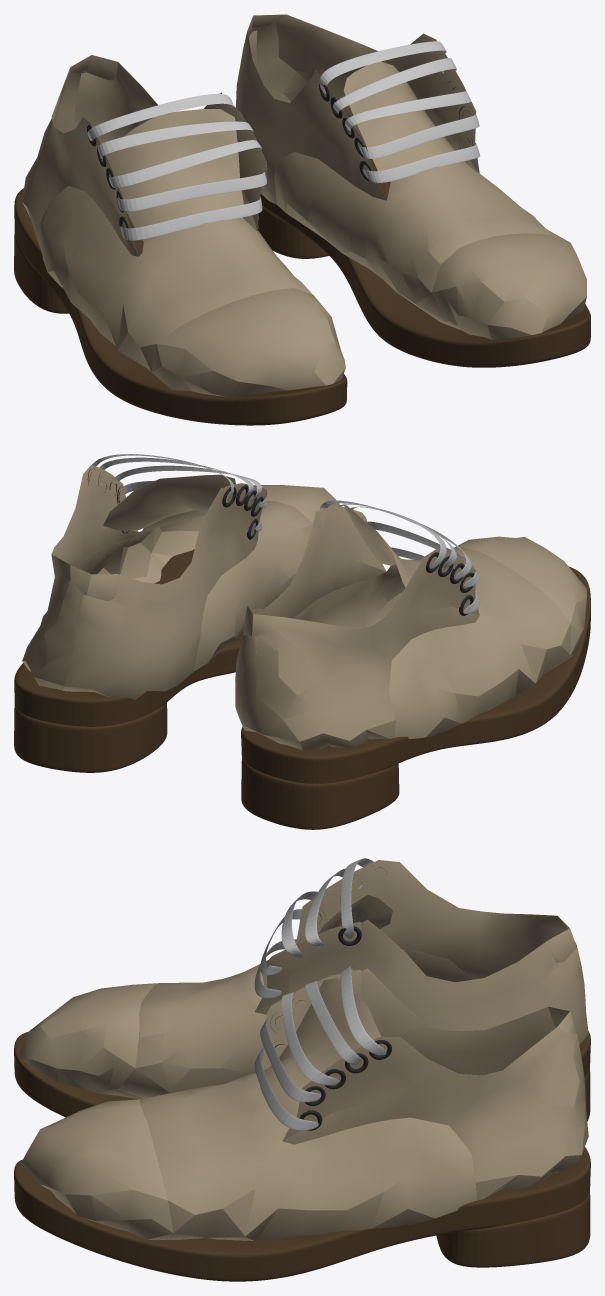
File: za1pri1.fbx
3 views of the same model, one above another, from view 1: azimuth 30°, elevation 25°; view 2: azimuth 150°, elevation 25°; view 3: azimuth 270°, elevation 25° (orthographic). The views are drawn at different scales.
Visible parts, largest first — view 1: ZAPATO1_3.001, ZAPATO1_3, Plane.011, Plane, Plane.009, Plane.006, Plane.010, Plane.008, Plane.007, Plane.002, Plane.003, Plane.004 (+2 smaller); view 2: ZAPATO1_3.001, ZAPATO1_3, Plane.011, Plane, Plane.009, Plane.001, Plane.003, Plane.007; view 3: ZAPATO1_3, ZAPATO1_3.001, Plane, Plane.011, Plane.001, Plane.004, Plane.003, Plane.005, Plane.002, Plane.007, Plane.008, Plane.010.
Part boxes in pixels (x1,y1,x2,y2): ZAPATO1_3.001: (22,55,345,396); ZAPATO1_3: (236,14,586,339); Plane.011: (14,188,347,425); Plane: (258,159,590,367); Plane.009: (117,172,266,211); Plane.006: (120,196,262,240); Plane.010: (109,140,262,187); Plane.008: (97,121,253,158); Plane.007: (87,93,234,140); Plane.002: (359,114,479,158); Plane.003: (333,58,456,112); Plane.004: (319,41,446,93); ZAPATO1_3.001: (235,505,586,750); ZAPATO1_3: (22,465,339,699); Plane.011: (241,566,590,829); Plane: (14,549,243,772); Plane.009: (366,521,479,587); Plane.001: (115,465,262,501); Plane.003: (99,457,253,497); Plane.007: (320,500,446,568); ZAPATO1_3: (20,968,588,1240); ZAPATO1_3.001: (20,860,588,1099); Plane: (14,1147,590,1281); Plane.011: (14,1031,590,1121); Plane.001: (281,992,339,1085); Plane.004: (340,965,386,1055); Plane.003: (305,981,361,1064); Plane.005: (254,1047,318,1130); Plane.002: (260,1016,321,1102); Plane.007: (340,858,373,938); Plane.008: (305,868,361,947); Plane.010: (281,891,317,958).
Bounding box in the file's own units: 412 × 209 × 447.
